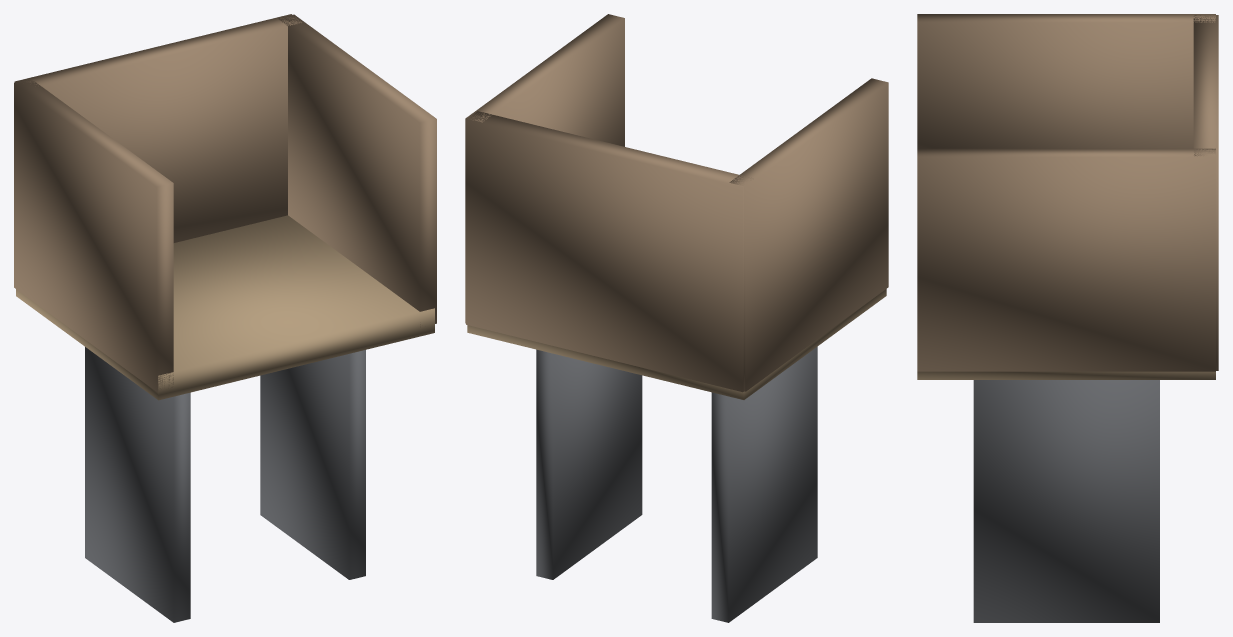
The model's file is study_carrel__deep.glb.
3 views of the same model, side by side, from view 1: azimuth 30°, elevation 25°; view 2: azimuth 150°, elevation 25°; view 3: azimuth 270°, elevation 25° (orthographic). The views are drawn at different scales.
Parts seen in each view (by area): view 1: world; view 2: world; view 3: world.
Boxes of the visible parts, x1,y1,x2,y2 form: world: [14, 14, 436, 622]; world: [465, 14, 888, 622]; world: [917, 14, 1218, 622].
Size of the model in its own units: 0.83 by 1.32 by 0.7381.
